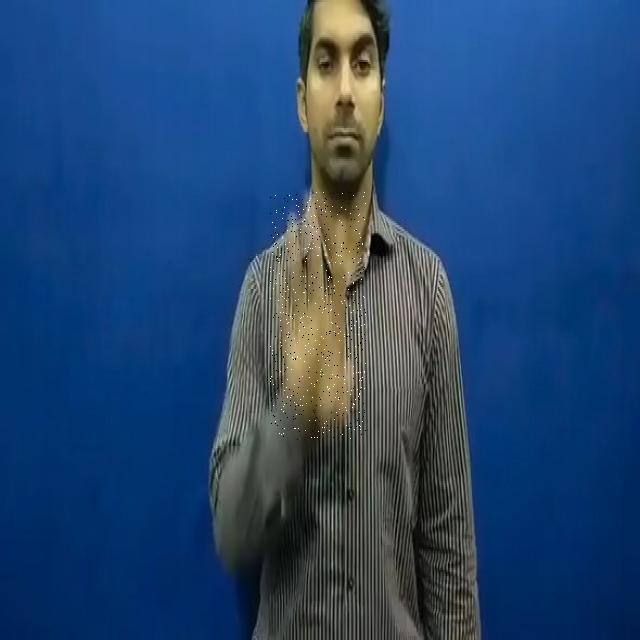eggs: (270, 192, 366, 440)
